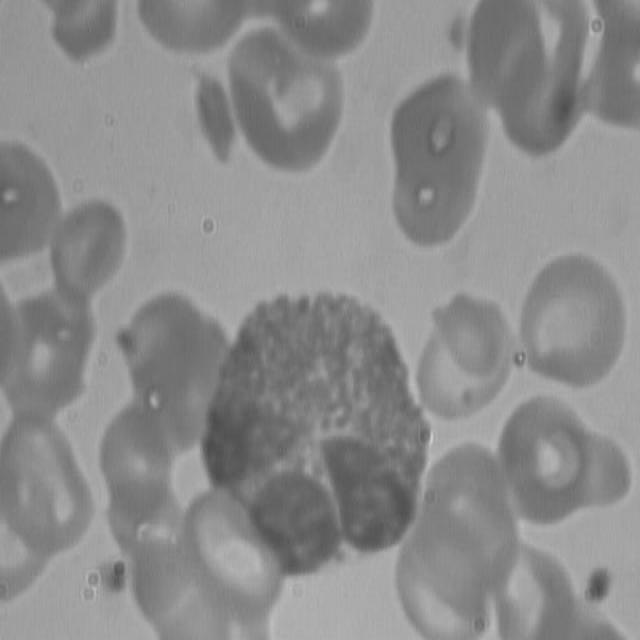Platelets: (576, 555, 617, 605), (99, 552, 130, 592)
RBC: (221, 20, 353, 181), (380, 70, 485, 253), (513, 248, 632, 389), (405, 276, 517, 416), (0, 132, 62, 276), (50, 185, 125, 294)
WBC: (189, 280, 433, 577)
